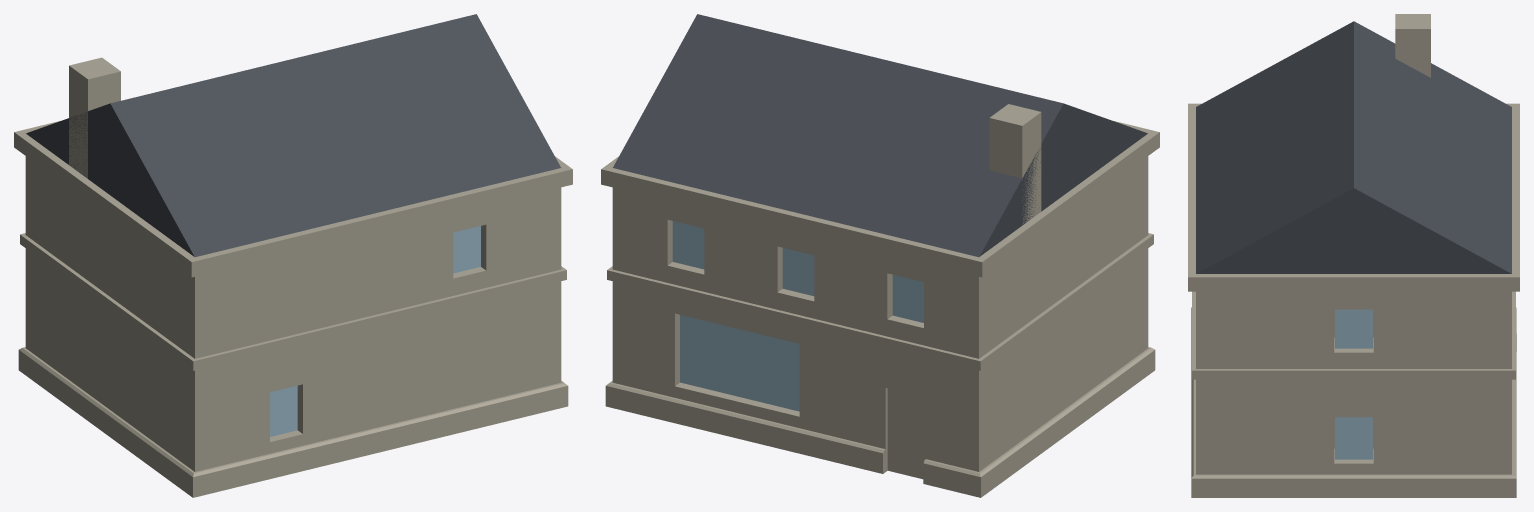
3 renders of one model, left to right at view 1: azimuth 30°, elevation 25°; view 2: azimuth 150°, elevation 25°; view 3: azimuth 270°, elevation 25°, orthographic. The views are drawn at different scales.
Visible parts, largest first — view 1: body_stone, roof_slate, trim_stone, glass_glass (×2); view 2: body_stone, roof_slate, trim_stone, glass_glass (×4); view 3: roof_slate, body_stone, trim_stone, glass_glass (×2).
Part boxes in pixels (bbox=[...]): body_stone: bbox=[25, 57, 561, 471]; roof_slate: bbox=[26, 14, 560, 257]; trim_stone: bbox=[14, 121, 572, 497]; glass_glass (×2): bbox=[270, 226, 480, 436]; body_stone: bbox=[612, 104, 1148, 479]; roof_slate: bbox=[613, 14, 1147, 257]; trim_stone: bbox=[601, 121, 1159, 497]; glass_glass (×4): bbox=[672, 221, 923, 411]; roof_slate: bbox=[1196, 21, 1511, 273]; body_stone: bbox=[1196, 14, 1511, 474]; trim_stone: bbox=[1188, 103, 1519, 497]; glass_glass (×2): bbox=[1335, 309, 1372, 459].
Size of what is drawn, in the model's own units: 10.4 by 8.8 by 8.4.
